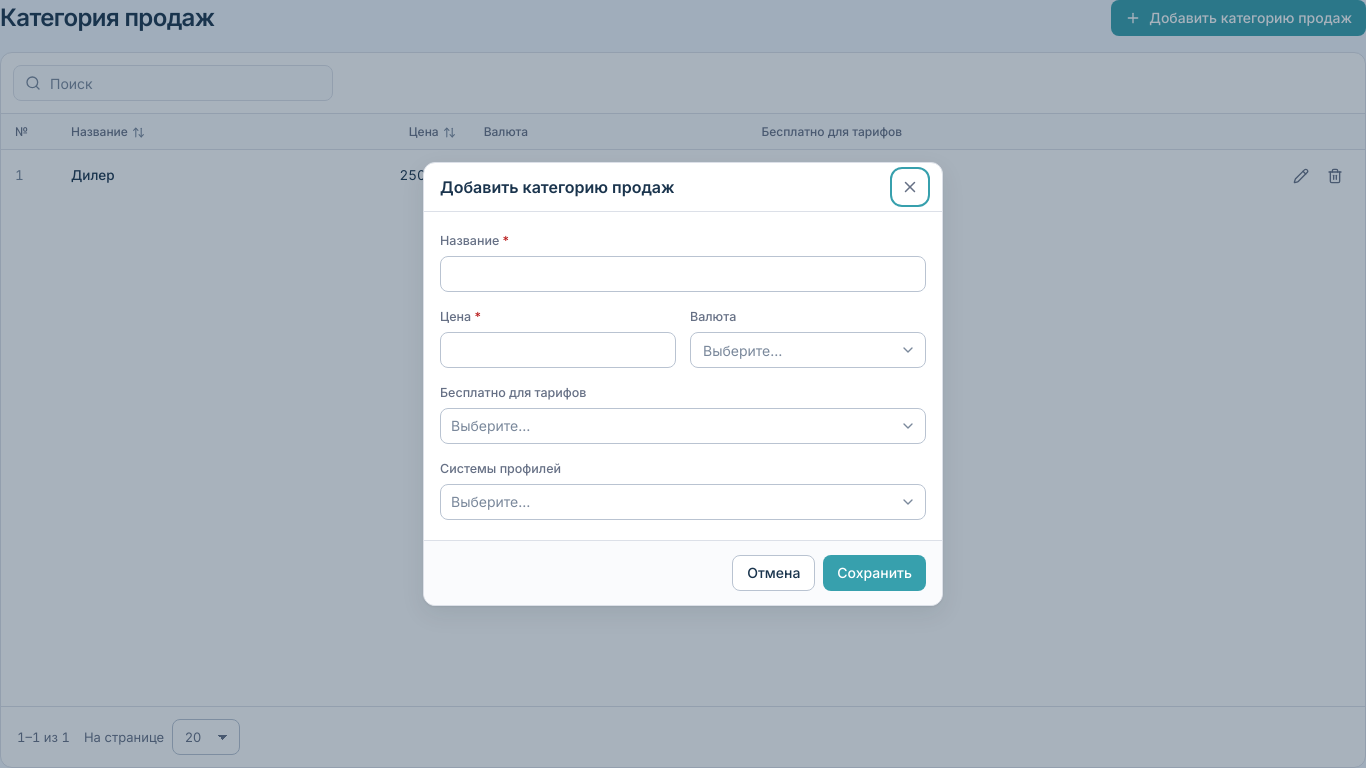
it: Sales categories › requires a name and a price
Click the button "Сохранить" at (875, 573), box top-left (823, 555), bottom-right (926, 591)
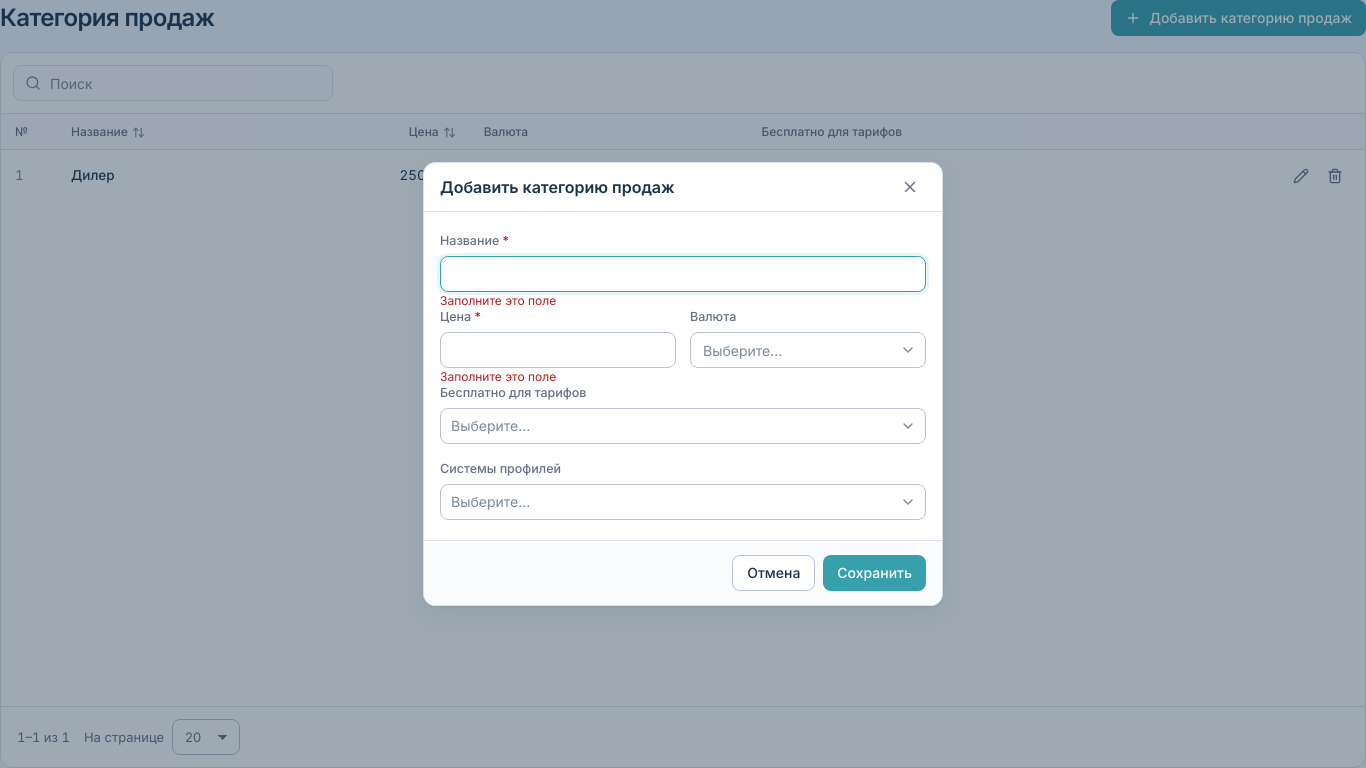
Expected: the text "Заполните это поле" is shown 2 times, top-left (440, 294), bottom-right (556, 308); top-left (440, 370), bottom-right (556, 384)
